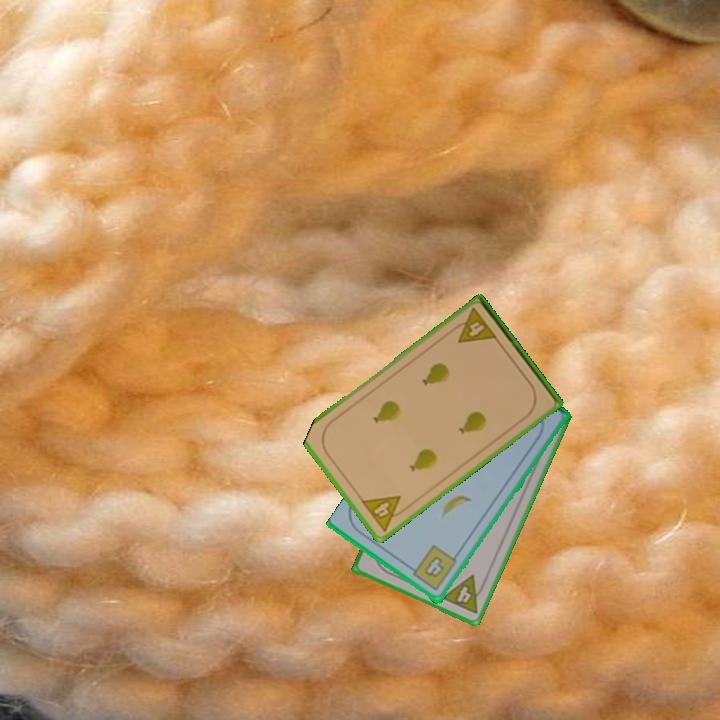4b: (406, 542, 460, 594)
4p: (438, 571, 489, 617), (357, 492, 412, 534), (447, 304, 500, 347)
